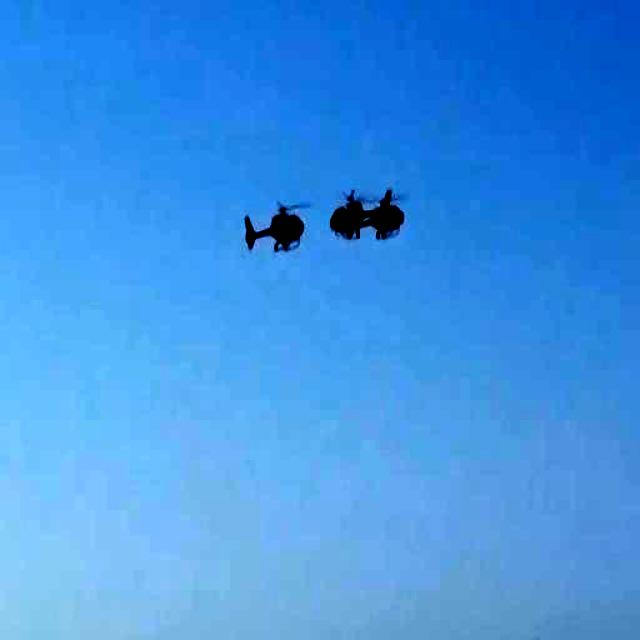drone: (241, 196, 315, 265), (365, 180, 414, 268), (330, 185, 365, 249)
